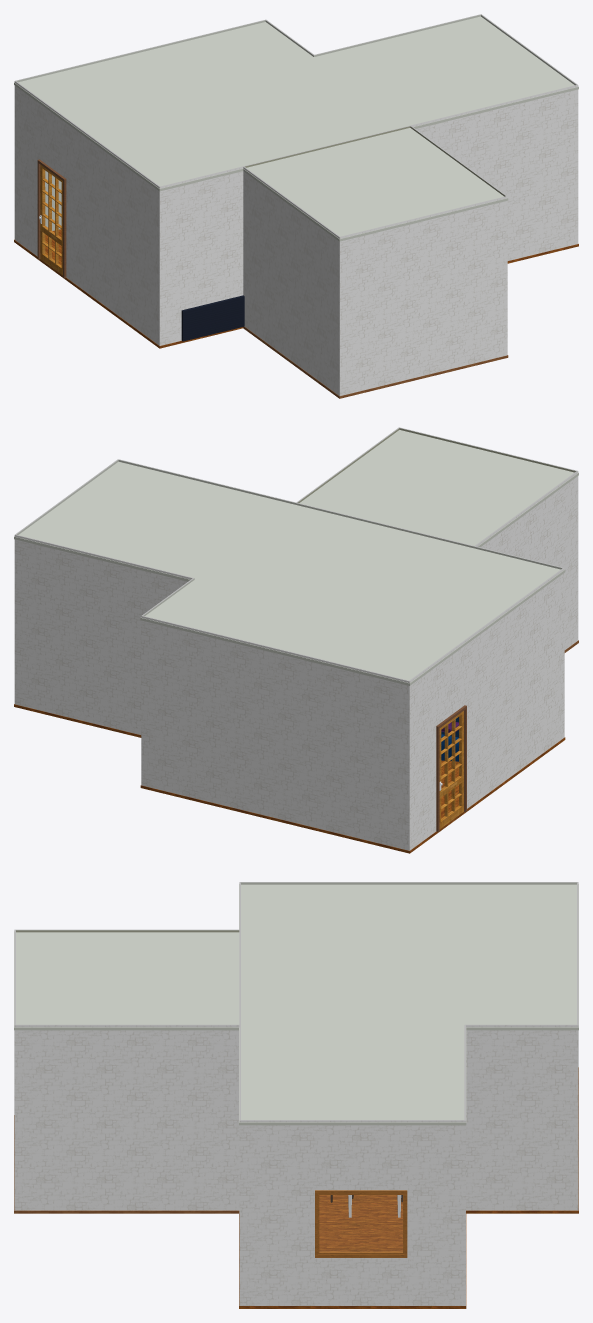
Rendered from ProcTHOR-Train-79.glb.
The picture shows the model from 3 angles, top to bottom: view 1: azimuth 30°, elevation 25°; view 2: azimuth 150°, elevation 25°; view 3: azimuth 270°, elevation 25°; orthographic projection. The views are drawn at different scales.
Parts seen in each view (by area): view 1: Ceiling#room|2|c, WallInside#wall|exterior|3.71|9.28|7.43|9.28, WallInside#wall|exterior|9.28|0.00|9.28|5.57, Ceiling#room|3|c, WallInside#wall|exterior|0.00|5.57|3.71|5.57, WallInside#wall|exterior|7.43|5.57|7.43|9.28, WallInside#wall|exterior|7.43|5.57|9.28|5.57, Doorway_5, Bed_12, Floor#room|2|f, WallInside#wall|2|3.71|0.00|9.28|0.00, Floor#room|3|f; view 2: Ceiling#room|2|c, WallInside#wall|exterior|3.71|0.00|9.28|0.00, WallInside#wall|exterior|9.28|0.00|9.28|5.57, WallInside#wall|exterior|0.00|1.86|3.71|1.86, Ceiling#room|3|c, WallInside#wall|exterior|7.43|5.57|7.43|9.28, Doorway_5, Floor#room|2|f; view 3: Ceiling#room|2|c, WallInside#wall|exterior|3.71|5.57|3.71|9.28, WallInside#wall|exterior|0.00|1.86|0.00|5.57, Ceiling#room|3|c, WallInside#wall|exterior|3.71|0.00|3.71|1.86, Floor#room|2|f, Window_Fixed_60x48, WallInside#wall|2|9.28|0.00|9.28|5.57, Floor#room|3|f, WallInside#wall|3|7.43|5.57|7.43|9.28.
Part boxes in pixels (x1,y1,x2,y2): Ceiling#room|2|c: (14, 16, 578, 191); WallInside#wall|exterior|3.71|9.28|7.43|9.28: (339, 196, 507, 395); WallInside#wall|exterior|9.28|0.00|9.28|5.57: (14, 81, 159, 345); Ceiling#room|3|c: (243, 128, 508, 241); WallInside#wall|exterior|0.00|5.57|3.71|5.57: (411, 85, 578, 260); WallInside#wall|exterior|7.43|5.57|7.43|9.28: (243, 167, 339, 395); WallInside#wall|exterior|7.43|5.57|9.28|5.57: (160, 166, 243, 345); Doorway_5: (37, 159, 66, 278); Bed_12: (181, 295, 244, 341); Floor#room|2|f: (14, 229, 578, 348); WallInside#wall|2|3.71|0.00|9.28|0.00: (16, 20, 265, 230); Floor#room|3|f: (243, 326, 508, 398); Ceiling#room|2|c: (14, 461, 565, 685); WallInside#wall|exterior|3.71|0.00|9.28|0.00: (141, 616, 409, 850); WallInside#wall|exterior|9.28|0.00|9.28|5.57: (409, 568, 564, 850); WallInside#wall|exterior|0.00|1.86|3.71|1.86: (14, 535, 192, 734); Ceiling#room|3|c: (295, 430, 578, 547); WallInside#wall|exterior|7.43|5.57|7.43|9.28: (475, 471, 578, 649); Doorway_5: (436, 705, 466, 831); Floor#room|2|f: (14, 704, 565, 853); Ceiling#room|2|c: (239, 884, 578, 1125); WallInside#wall|exterior|3.71|5.57|3.71|9.28: (14, 1025, 239, 1210); WallInside#wall|exterior|0.00|1.86|0.00|5.57: (239, 1120, 465, 1305); Ceiling#room|3|c: (14, 931, 241, 1030); WallInside#wall|exterior|3.71|0.00|3.71|1.86: (466, 1025, 578, 1210); Floor#room|2|f: (239, 1067, 578, 1308); Window_Fixed_60x48: (315, 1190, 407, 1257); WallInside#wall|2|9.28|0.00|9.28|5.57: (240, 882, 576, 884); Floor#room|3|f: (14, 1115, 238, 1213); WallInside#wall|3|7.43|5.57|7.43|9.28: (16, 930, 239, 932).
Size of what is drawn, in the model's own units: 9.4 by 3.42 by 9.32.
Materials: 177 (77 with a texture image).
